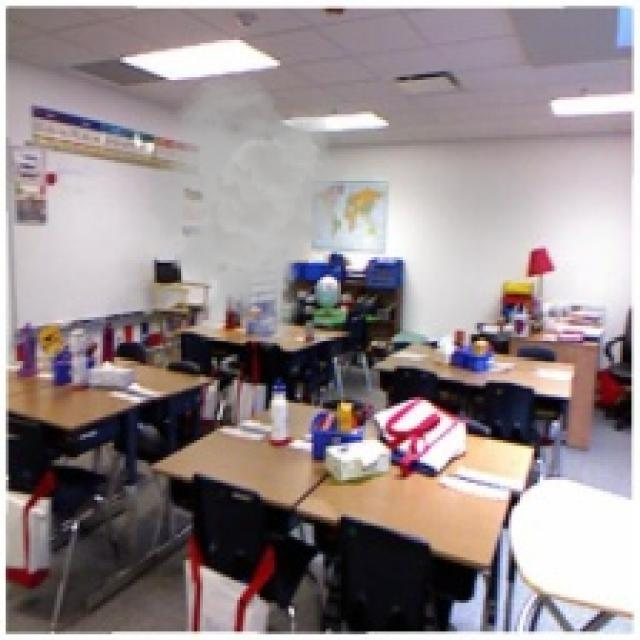smoke: (134, 75, 349, 352)
